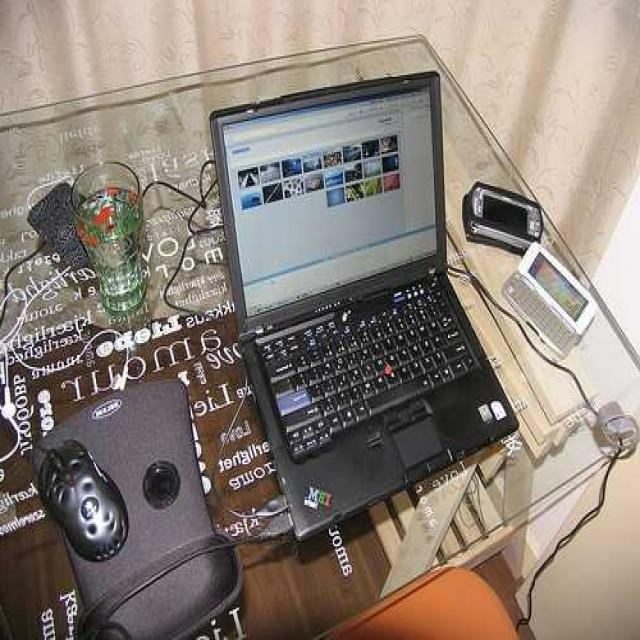laptop: (249, 113, 445, 463)
